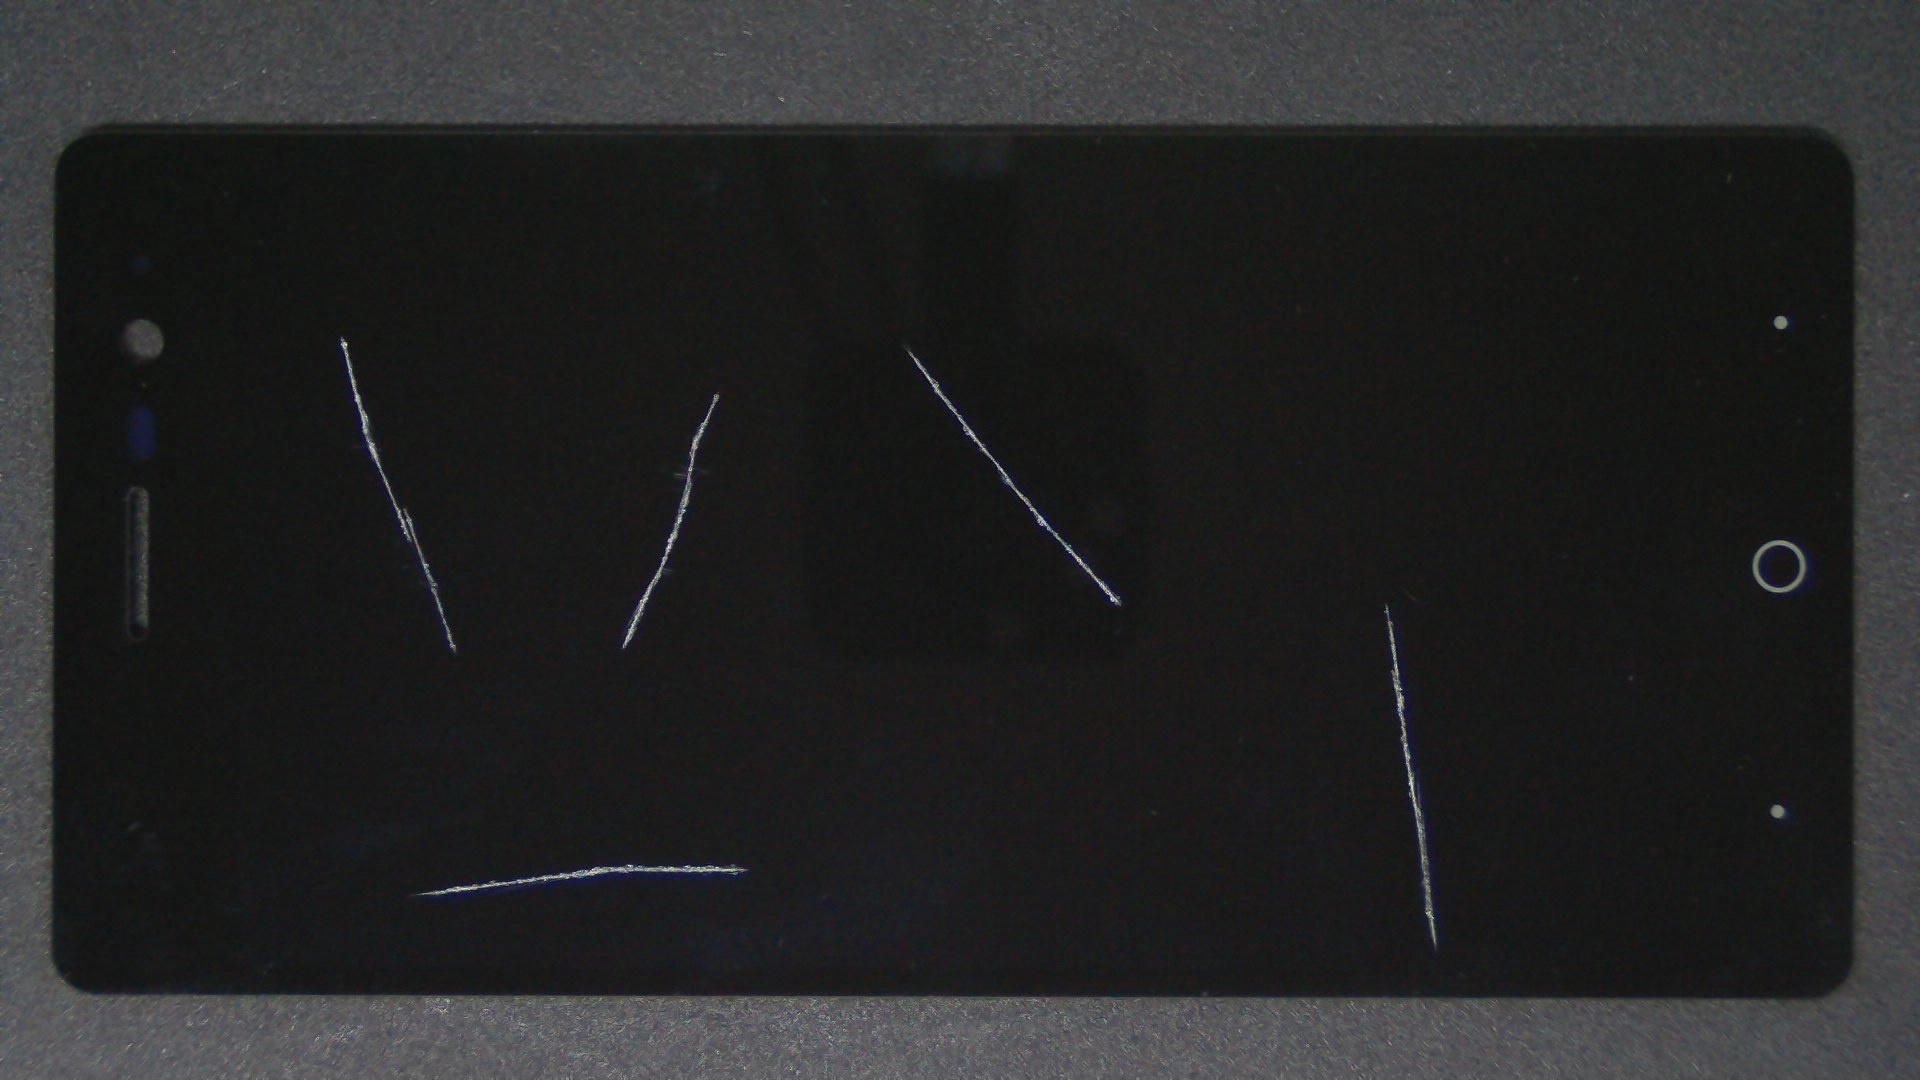oil: (692, 298, 1920, 909), (316, 430, 949, 1080), (451, 174, 1358, 526), (356, 195, 1069, 589), (170, 166, 512, 501)
